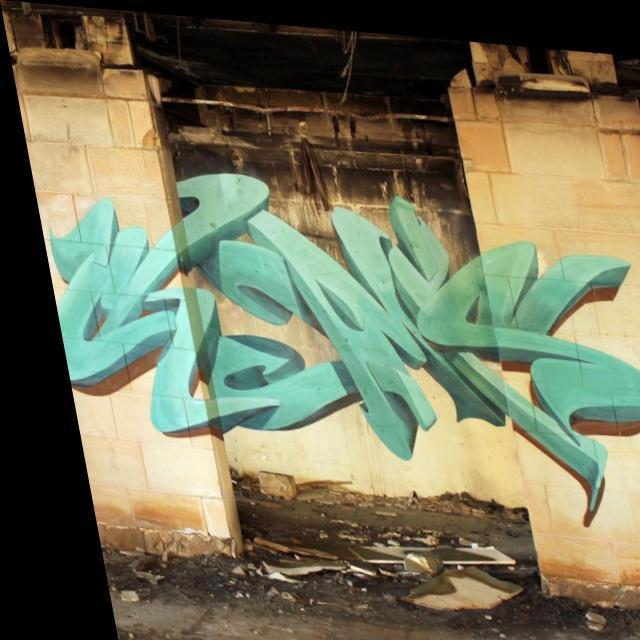-: (18, 121, 640, 550)
